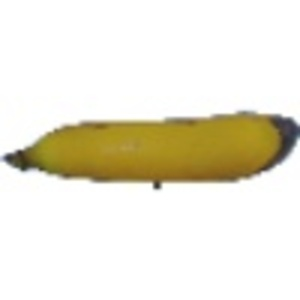banana: (3, 102, 294, 191)
